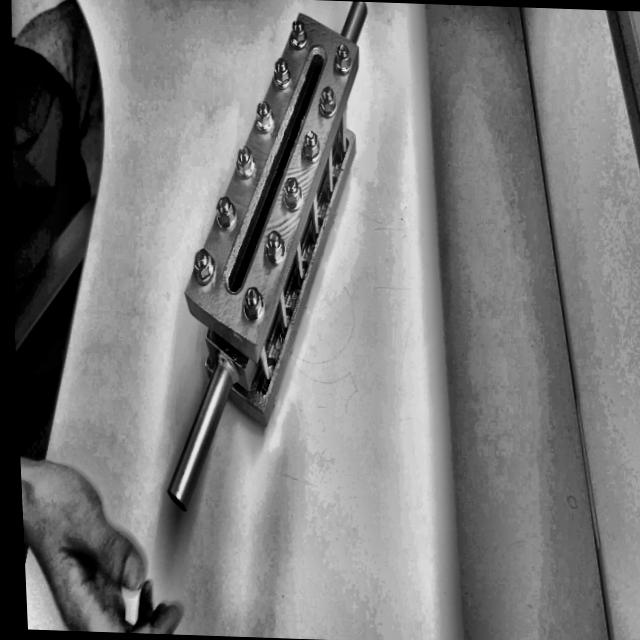ShuiWeiQi_12: (141, 1, 385, 526)
